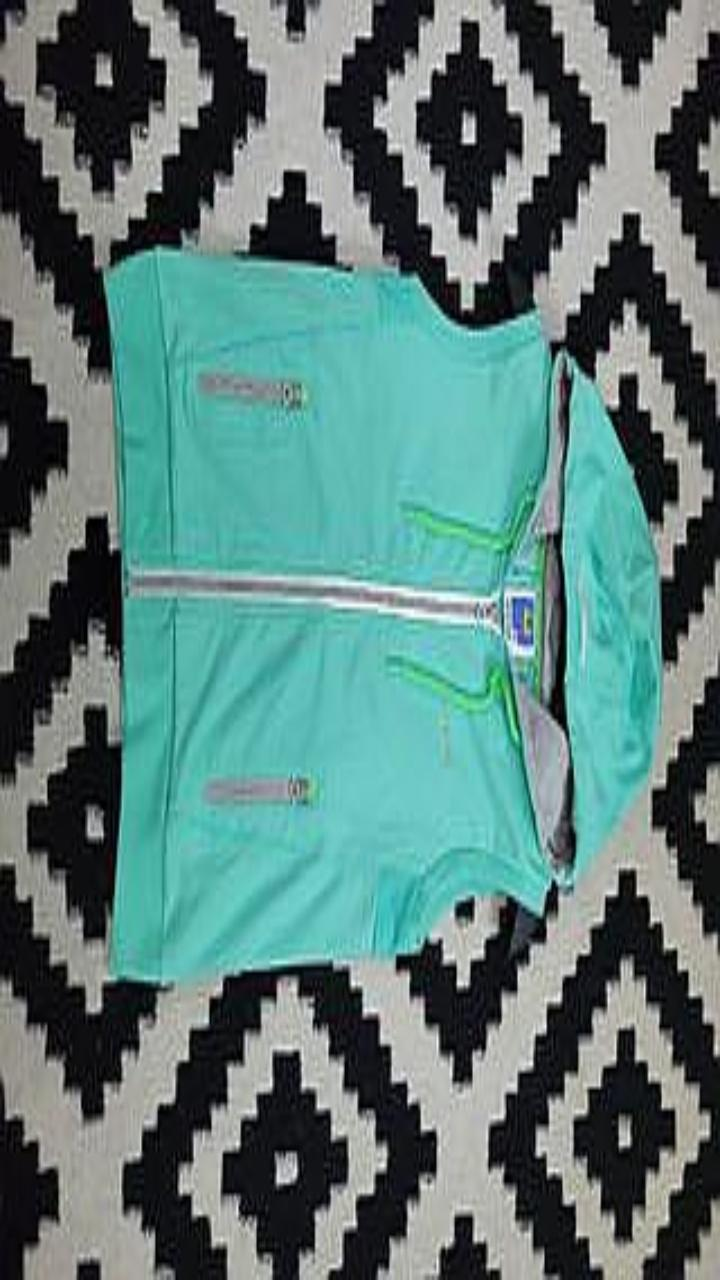Sports_Jacket: (103, 248, 661, 981)
